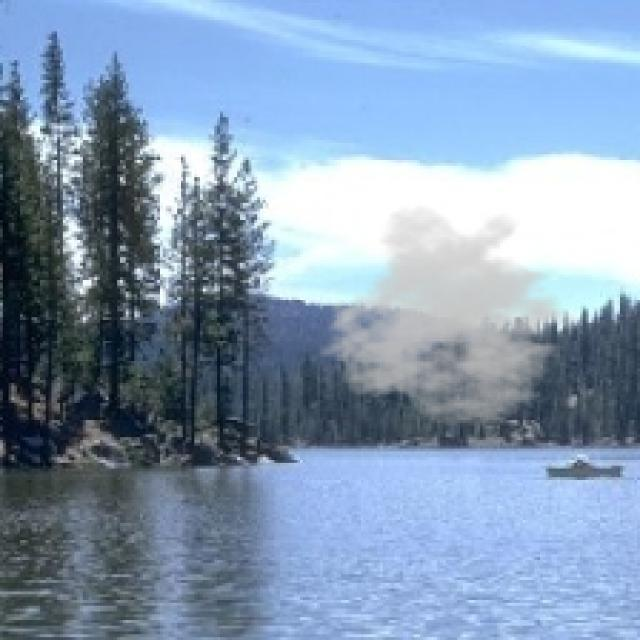Smoke: (317, 202, 594, 428)
